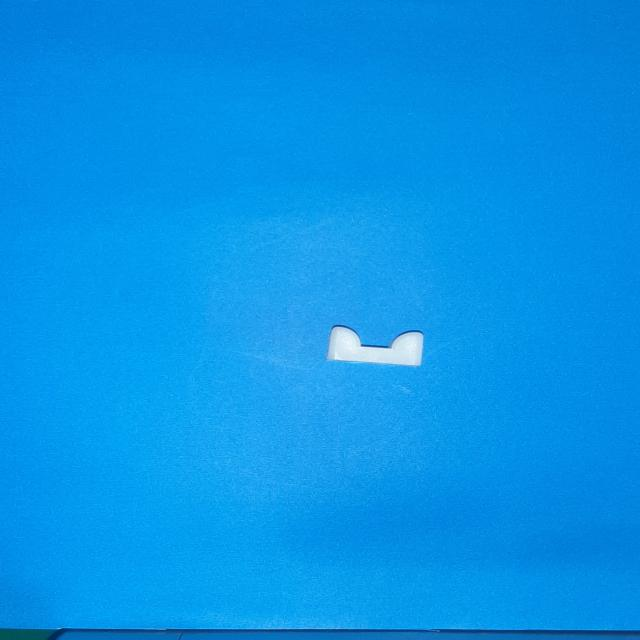false_2: (327, 325, 423, 366)
